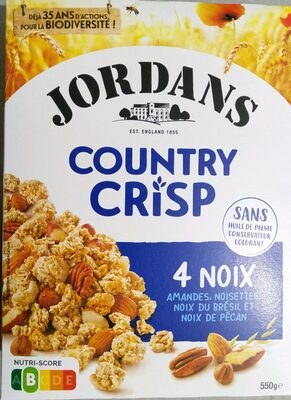Country Crisp 4 noix: (15, 20, 276, 380)
